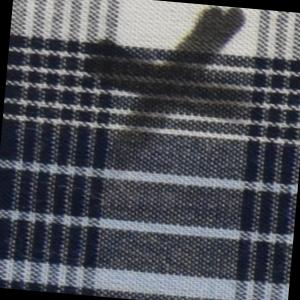Stain: (71, 1, 259, 176)
